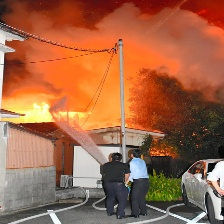fire: (12, 92, 90, 125)
smoke: (10, 1, 219, 85)
